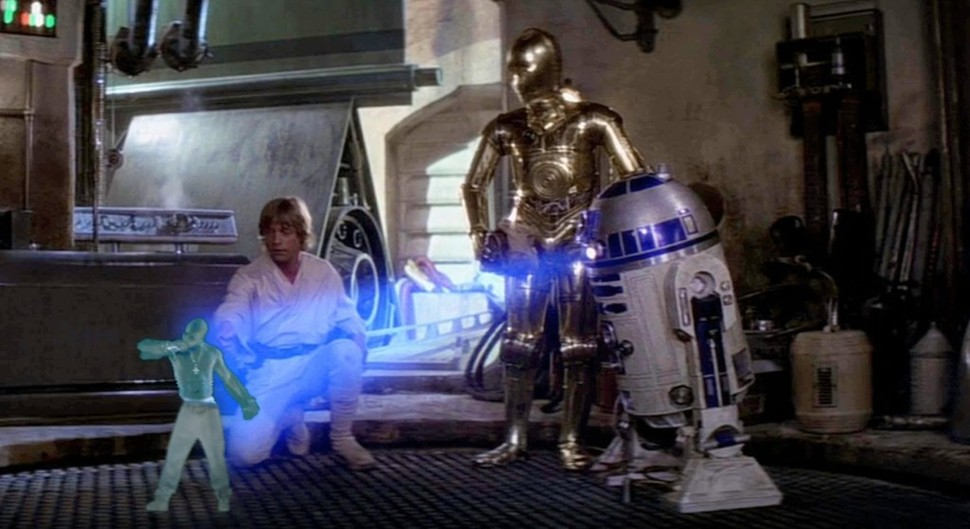r2d2: (576, 173, 783, 514)
